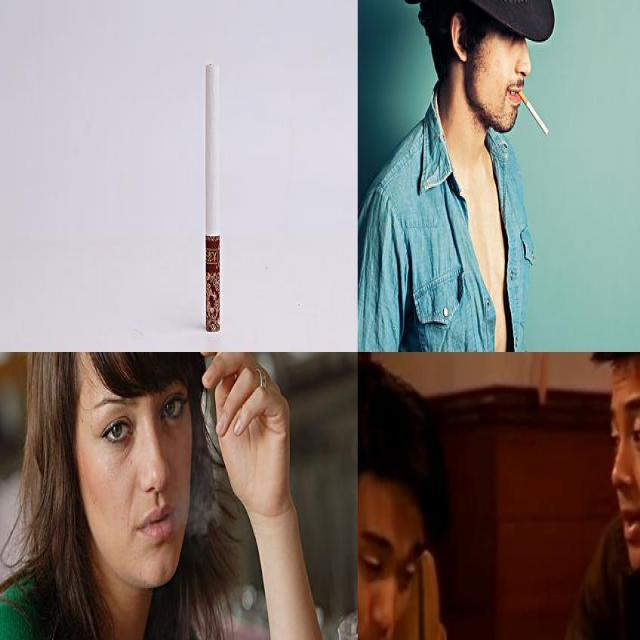cigarette: (204, 58, 222, 334), (515, 82, 551, 138), (200, 352, 262, 384)
